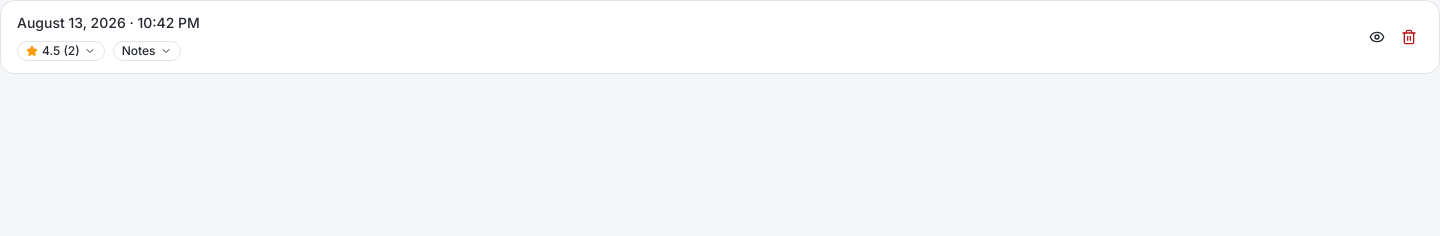
Test: DishCompletedSessionCard › summarizes Full recipe when every unit was included, and shows the non-empty note sections in order
This screenshot has width=1440, height=236.
What coordinates should you click on to do the following:
click the button "Notes"
I would click on:
 (147, 51)
Its box is [113,41,180,61].
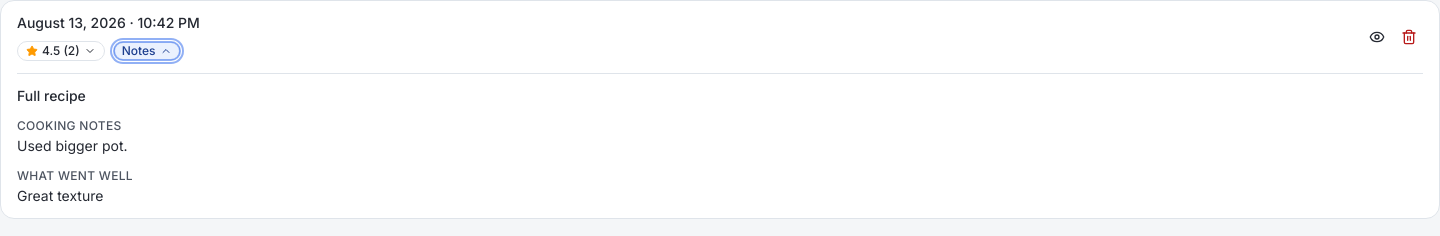
Check: the text "Full recipe" is shown, box [17,87,86,104]
Check: the text "Used bigger pot." is shown, box [17,137,128,154]
Check: the text "Great texture" is shown, box [17,187,103,204]
